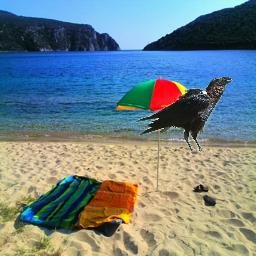Crow: (135, 76, 233, 152)
